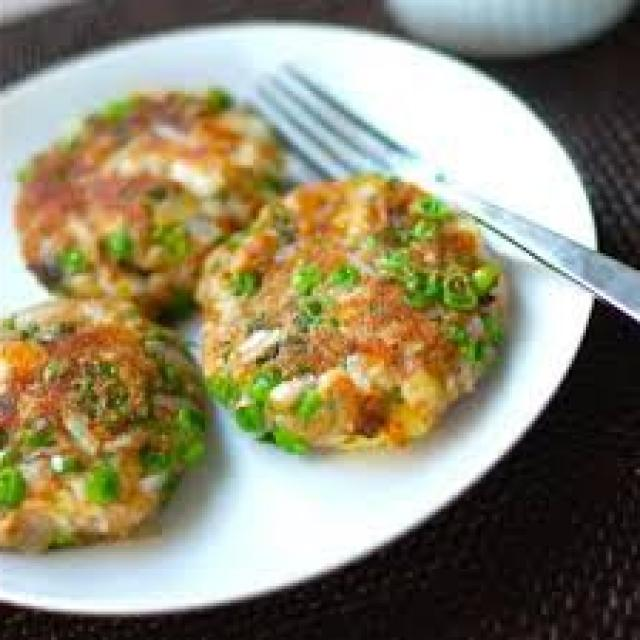Aloo Tikki: (200, 176, 508, 450), (17, 90, 279, 324), (0, 302, 207, 553)
